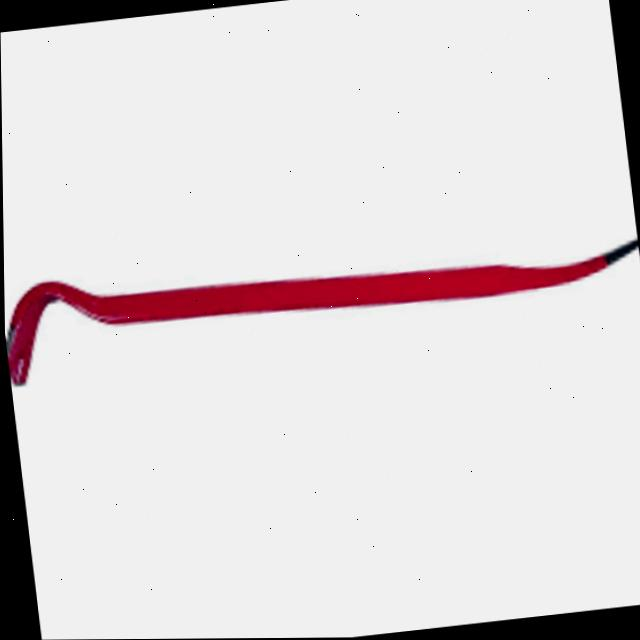crow bar: (2, 180, 640, 385)
